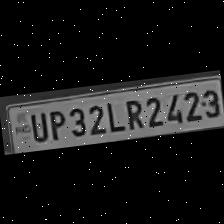2: (140, 92, 164, 128), (84, 100, 107, 136), (178, 86, 201, 122)
3: (63, 103, 87, 139), (197, 84, 220, 119)
4: (160, 89, 182, 125)
L: (103, 97, 125, 133)
P: (44, 105, 68, 141)
R: (120, 95, 144, 131)
U: (25, 108, 47, 142)
